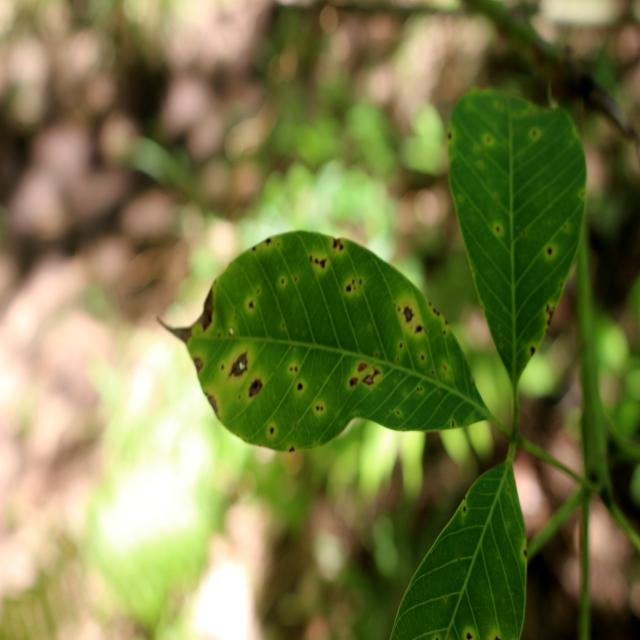Colletotrichum: (297, 382, 303, 390)
